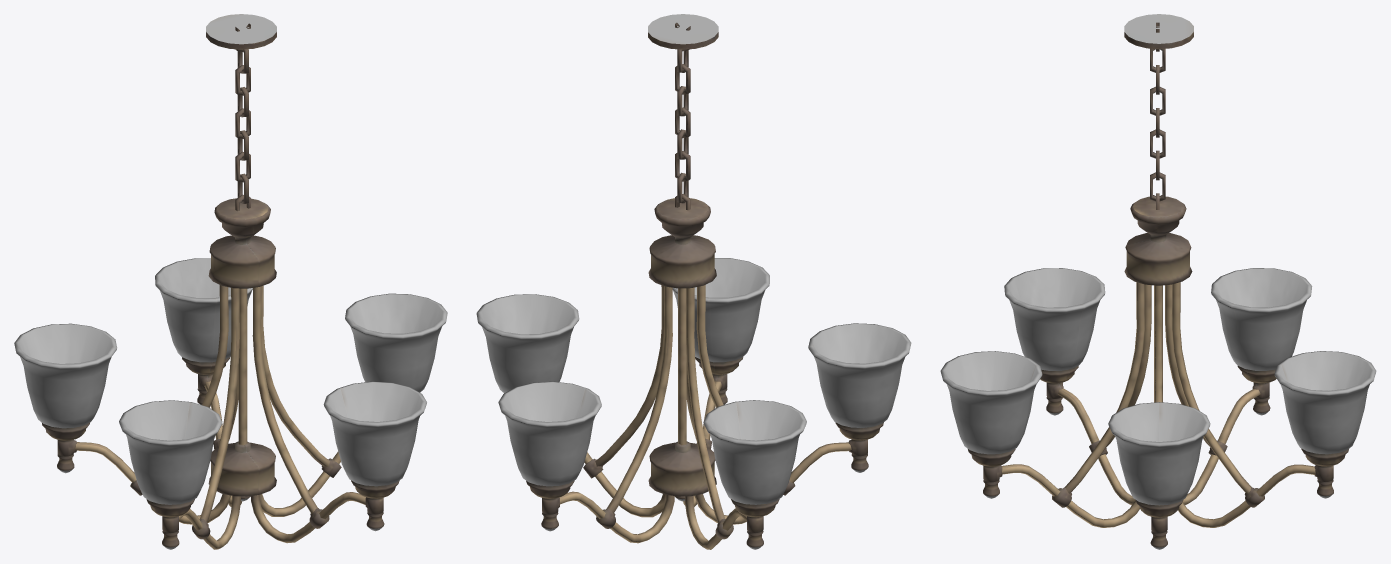
File: Lamp_Chandelier.FBX
3 renders of one model, left to right at view 1: azimuth 30°, elevation 25°; view 2: azimuth 150°, elevation 25°; view 3: azimuth 270°, elevation 25°, orthographic.
Parts seen in each view (by area): view 1: Lamp_Chandelier; view 2: Lamp_Chandelier; view 3: Lamp_Chandelier.
Part boxes in pixels (<box>): Lamp_Chandelier: <box>14,14,447,549</box>; Lamp_Chandelier: <box>476,14,911,549</box>; Lamp_Chandelier: <box>940,14,1376,549</box>.
Size of the model in its own units: 67.6 by 88.02 by 70.24.
